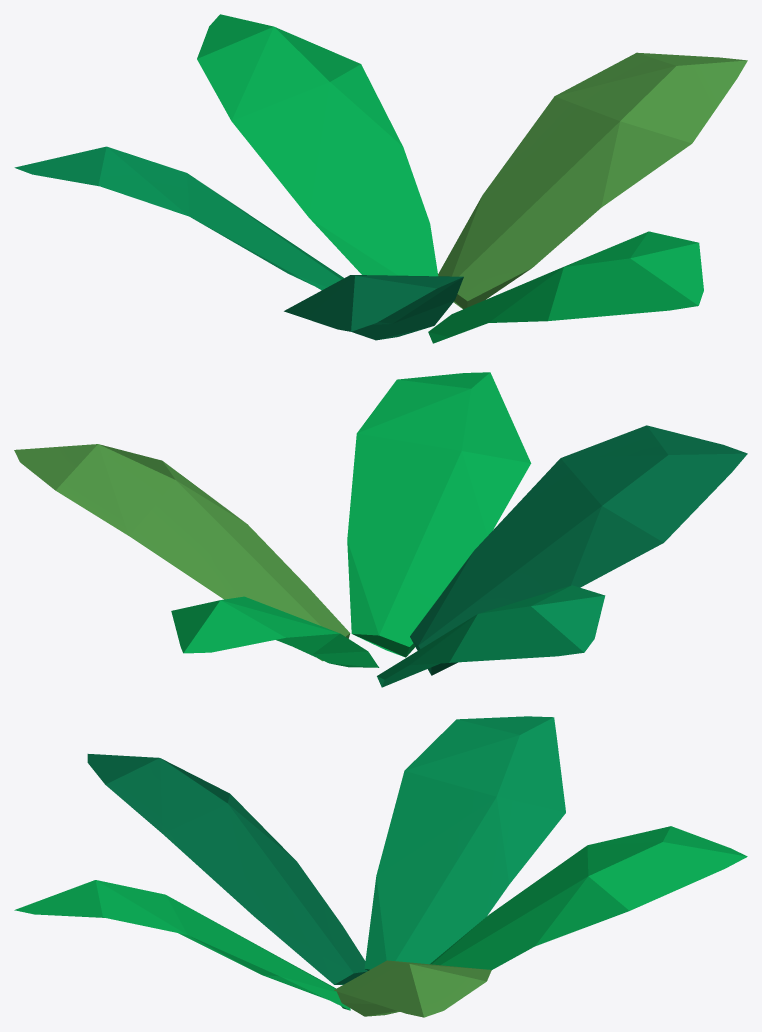
File: Grass.fbx
3 views of the same model, one above another, from view 1: azimuth 30°, elevation 25°; view 2: azimuth 150°, elevation 25°; view 3: azimuth 270°, elevation 25° (orthographic). The views are drawn at different scales.
Visible parts, largest first — view 1: Grass; view 2: Grass; view 3: Grass.
Part boxes in pixels (<box>): Grass: <box>14,14,747,343</box>; Grass: <box>14,372,747,687</box>; Grass: <box>14,716,747,1017</box>.
Size of the model in its own units: 0.9168 by 0.2435 by 0.9549.
